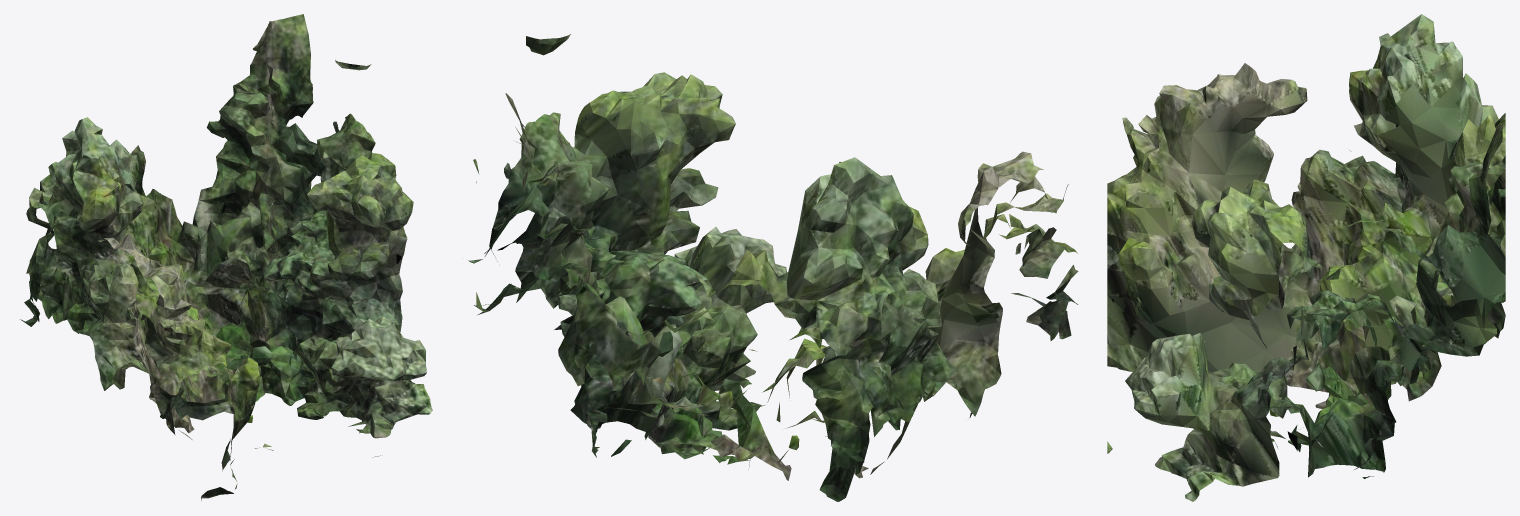
The picture shows the model from 3 angles, left to right: view 1: azimuth 30°, elevation 25°; view 2: azimuth 150°, elevation 25°; view 3: azimuth 270°, elevation 25°; orthographic projection. The views are drawn at different scales.
Bounding box in the file's own units: 26.11 × 26.11 × 26.11.
Materials: 8 (8 with a texture image).
